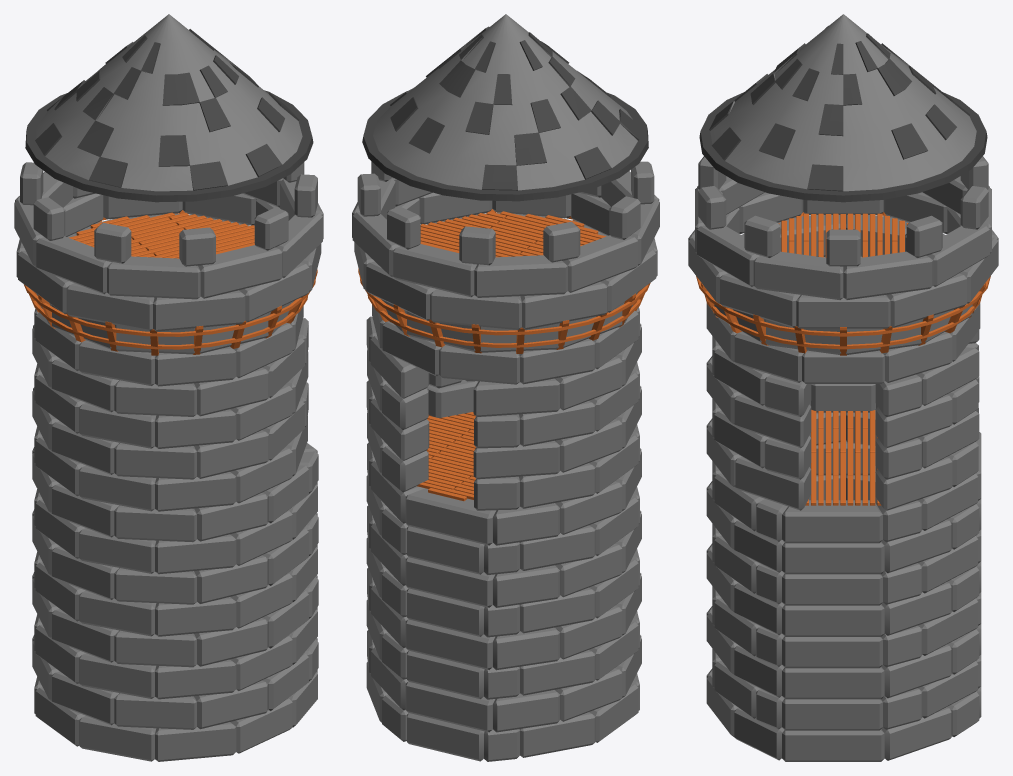
File: Build_Castle_Tower_V1.fbx
3 renders of one model, left to right at view 1: azimuth 30°, elevation 25°; view 2: azimuth 150°, elevation 25°; view 3: azimuth 270°, elevation 25°, orthographic.
Parts seen in each view (by area): view 1: Castle_Tower_base; view 2: Castle_Tower_base; view 3: Castle_Tower_base.
Boxes of the visible parts, <box> form: Castle_Tower_base: <box>14,14,323,761</box>; Castle_Tower_base: <box>352,14,659,761</box>; Castle_Tower_base: <box>688,14,998,761</box>.
Size of the model in its own units: 177 by 435 by 177.
